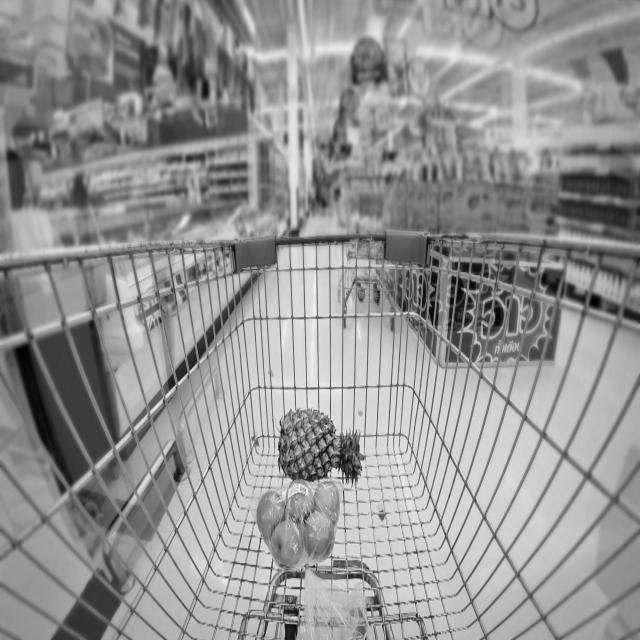apple: (252, 477, 348, 568)
pineapple: (274, 400, 364, 485)
